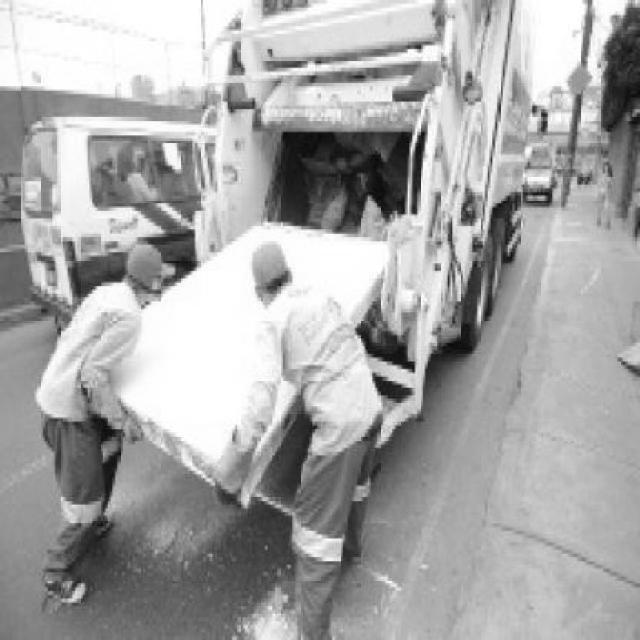Garbage Truck: (193, 0, 531, 448)
